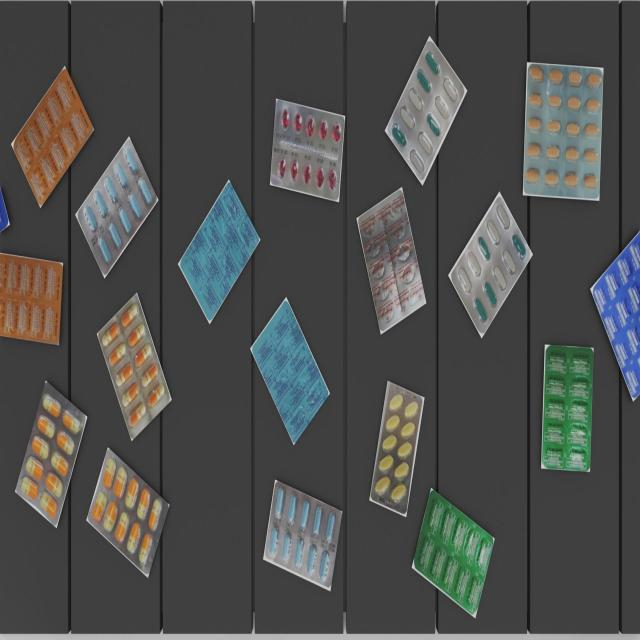blister: (525, 61, 604, 203), (77, 135, 157, 275), (451, 194, 531, 334), (180, 183, 261, 321), (253, 300, 330, 444), (98, 292, 171, 442), (387, 40, 464, 182), (15, 69, 93, 209), (414, 489, 496, 619), (15, 377, 85, 528), (357, 188, 428, 335), (88, 447, 168, 574), (592, 226, 640, 402), (265, 481, 343, 587), (268, 98, 346, 201), (369, 382, 423, 513), (540, 342, 594, 473), (0, 254, 64, 345)
